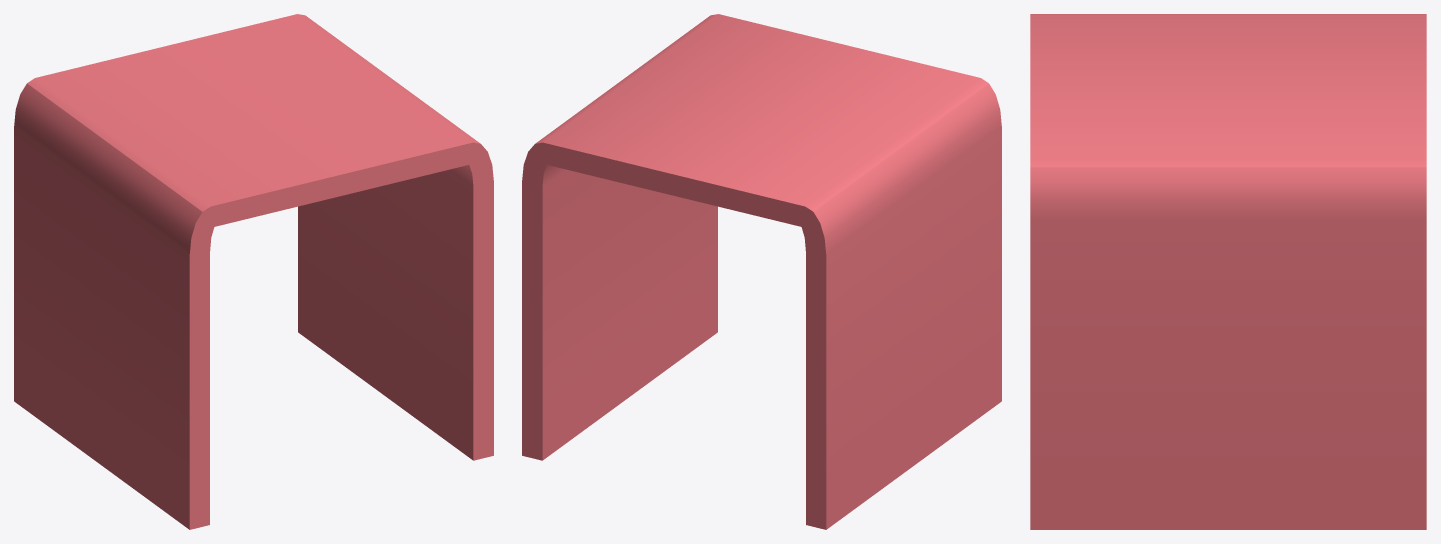
The model's file is Props_Conveyor_Pink_Connector_03.fbx.
The picture shows the model from 3 angles, left to right: view 1: azimuth 30°, elevation 25°; view 2: azimuth 150°, elevation 25°; view 3: azimuth 270°, elevation 25°; orthographic projection. The views are drawn at different scales.
Visible parts, largest first — view 1: Props_Conveyor_Pink_Connector_03; view 2: Props_Conveyor_Pink_Connector_03; view 3: Props_Conveyor_Pink_Connector_03.
Part boxes in pixels (left/top/right/bottom): Props_Conveyor_Pink_Connector_03: left=14, top=14, right=493, bottom=529; Props_Conveyor_Pink_Connector_03: left=522, top=14, right=1001, bottom=529; Props_Conveyor_Pink_Connector_03: left=1030, top=14, right=1426, bottom=529.
Bounding box in the file's own units: 100 × 100 × 100.
